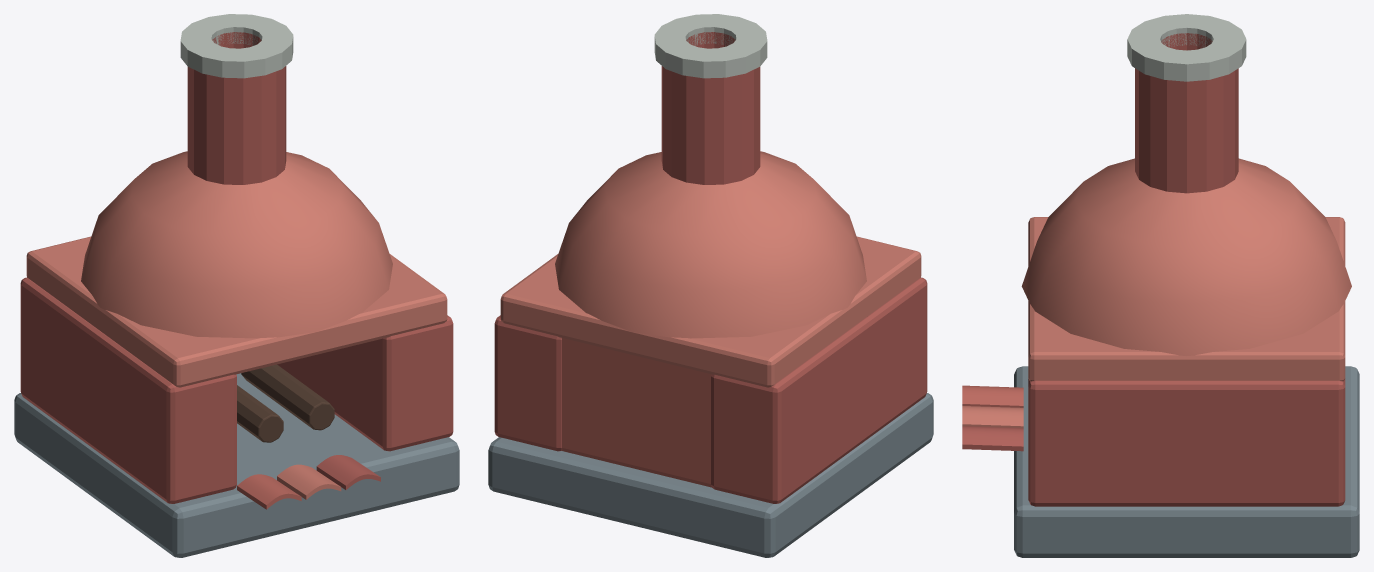
Rendered from workshop_tile_kiln.glb.
3 renders of one model, left to right at view 1: azimuth 30°, elevation 25°; view 2: azimuth 150°, elevation 25°; view 3: azimuth 270°, elevation 25°, orthographic. The views are drawn at different scales.
Visible parts, largest first — view 1: workshop_tile_kiln; view 2: workshop_tile_kiln; view 3: workshop_tile_kiln.
Boxes of the visible parts, x1=… form: workshop_tile_kiln: x1=14, y1=14, x2=459, y2=557; workshop_tile_kiln: x1=488, y1=14, x2=933, y2=557; workshop_tile_kiln: x1=962, y1=14, x2=1359, y2=557.
Bounding box in the file's own units: 1.8 × 2.58 × 2.07.
